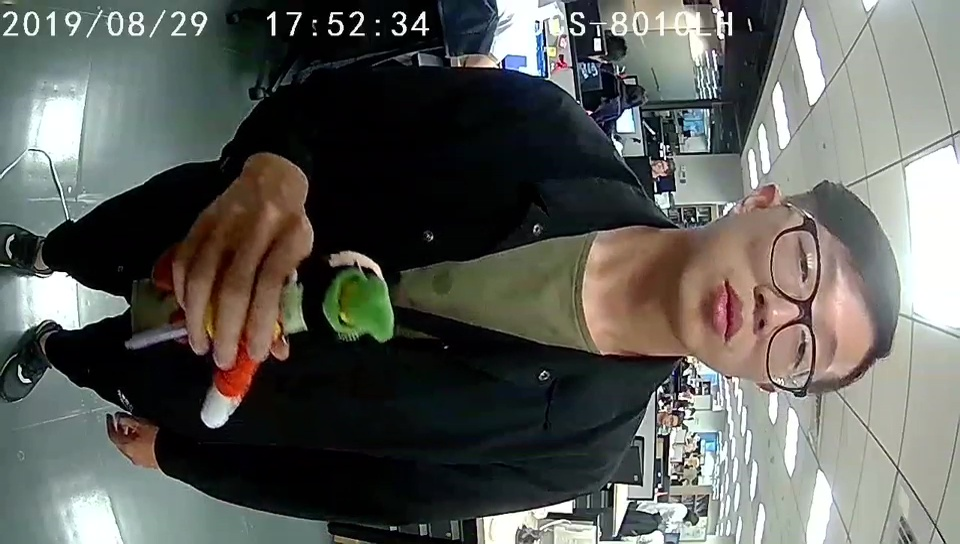goofy: (152, 241, 397, 429)
